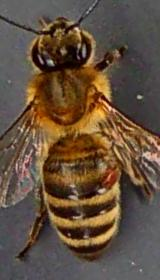varroa_mite: (88, 160, 128, 198)
